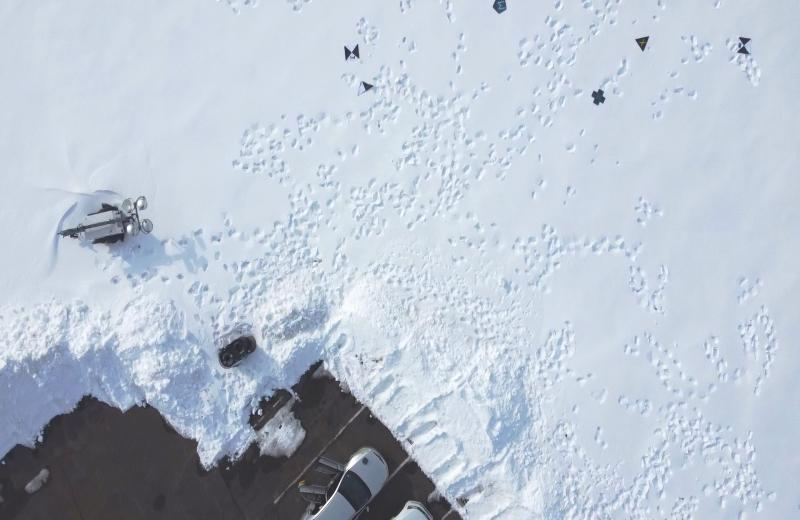Cross: (590, 88, 609, 108)
Pentagon: (492, 0, 508, 15)
Triangle: (634, 36, 651, 52)
